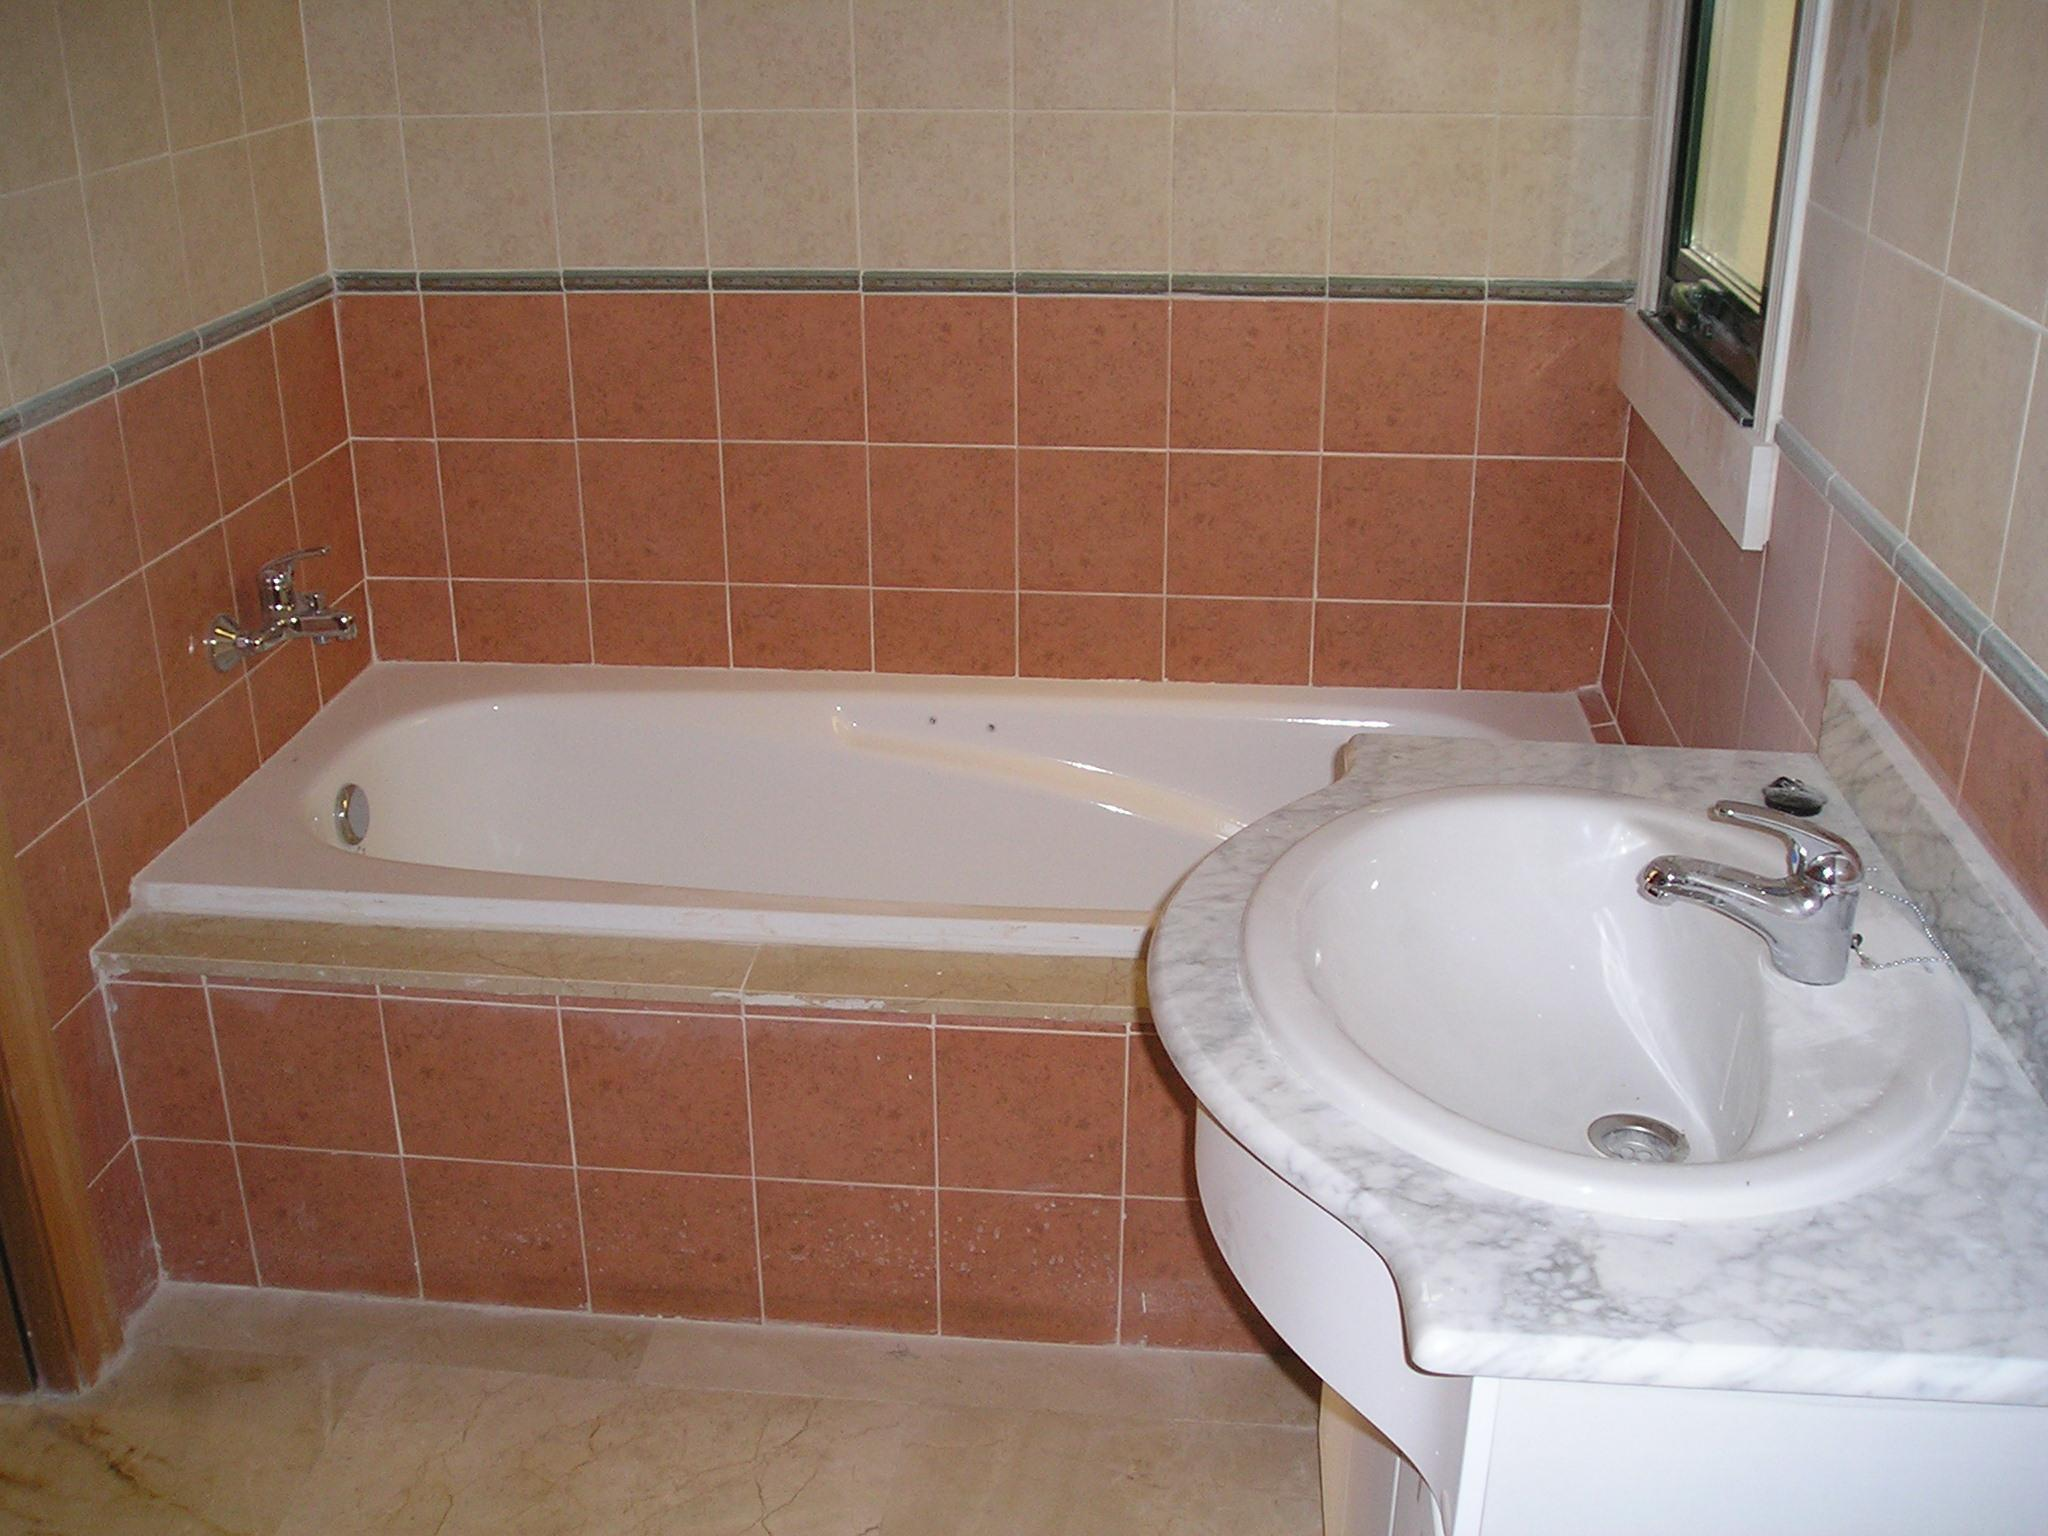Lavamanos: (1209, 758, 2038, 1518)
